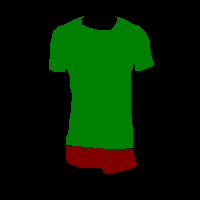abbigliamento: (49, 15, 154, 149)
mutande: (65, 146, 137, 173)
